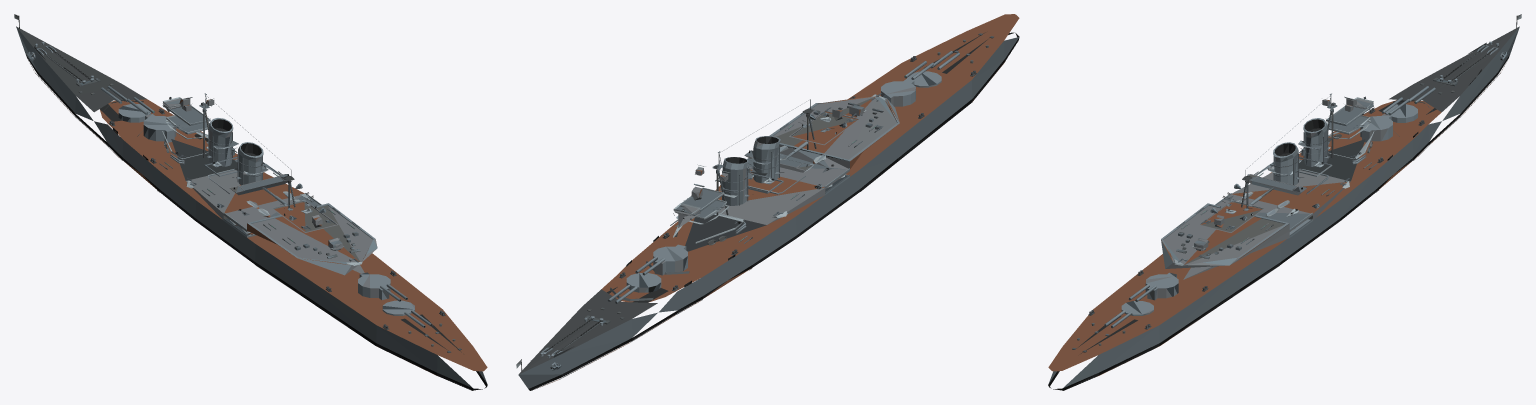
File: cf_ironwall_battleship.obj
3 renders of one model, left to right at view 1: azimuth 30°, elevation 25°; view 2: azimuth 150°, elevation 25°; view 3: azimuth 330°, elevation 25°, orthographic. The views are drawn at different scales.
Parts seen in each view (by area): view 1: cf_ironwall_battleship; view 2: cf_ironwall_battleship; view 3: cf_ironwall_battleship.
Boxes of the visible parts, bbox=[...] form: cf_ironwall_battleship: bbox=[14, 14, 487, 390]; cf_ironwall_battleship: bbox=[516, 14, 1019, 390]; cf_ironwall_battleship: bbox=[1048, 14, 1521, 390].
Size of the model in its own units: 7.8 by 8.39 by 75.73.
1 material, 1 textured.
